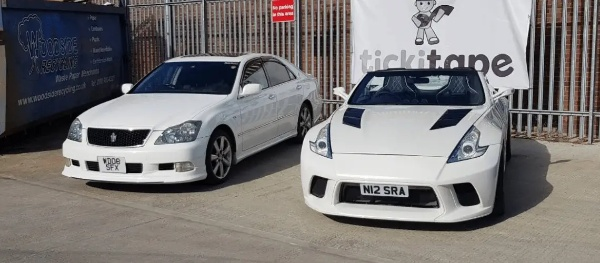licence: (359, 180, 409, 197)
